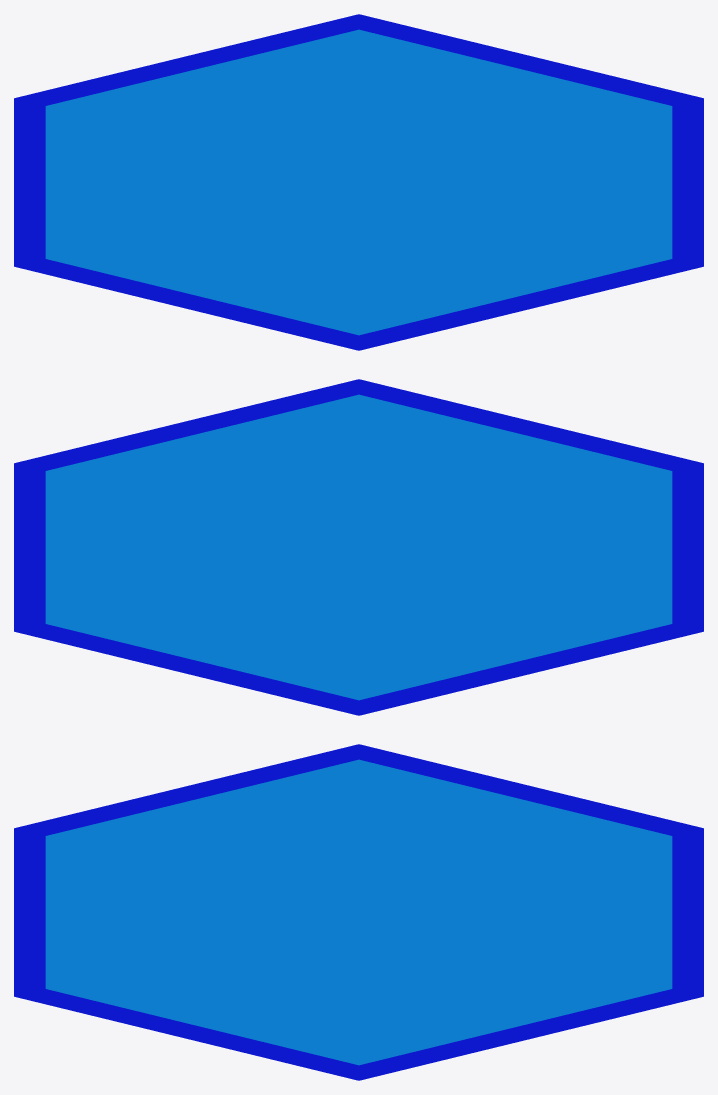
Rendered from hexa.glb.
3 renders of one model, top to bottom at view 1: azimuth 30°, elevation 25°; view 2: azimuth 150°, elevation 25°; view 3: azimuth 270°, elevation 25°, orthographic.
Parts seen in each view (by area): view 1: inHex, outHex; view 2: inHex, outHex; view 3: inHex, outHex.
Boxes of the visible parts, bbox=[...] form: inHex: bbox=[45, 29, 672, 335]; outHex: bbox=[14, 14, 703, 350]; inHex: bbox=[45, 394, 672, 700]; outHex: bbox=[14, 379, 703, 715]; inHex: bbox=[45, 759, 672, 1065]; outHex: bbox=[14, 744, 703, 1080].
Size of the model in its own units: 2 by 0 by 1.73.
